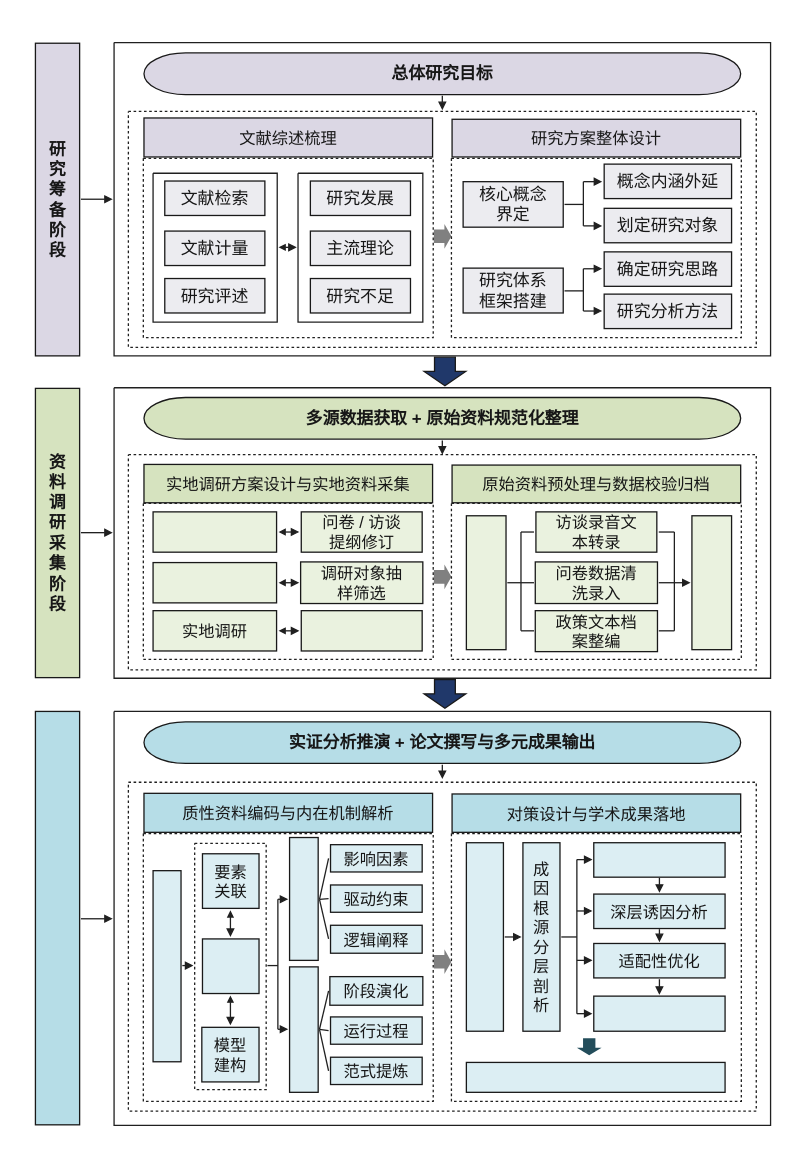
The diagram is 806 pixels wide and 1155 high, and some of its shapes have lost their labels. The centre of each missing label's shape, as x and y in pixels:
一手资料现 场采集: point 361,630
作 用 过 程 推 演: point 166,966
保障举措提出: point 659,1013
内 在 机 理 解 构: point 303,899
原 始 资 料 归 集: point 485,582
学位论文定稿撰写: point 595,1077
数 据 分 析 与 成 果 产 出 阶 段: point 57,917
现 实 问 题 深 度 研 判: point 484,937
现存困境归纳: point 659,860
系 统 运 行 剖 析: point 303,1029
调研工具: point 214,531
调研样本: point 214,582
路径 拆解: point 230,966
采 集 资 料 核 验: point 711,582
